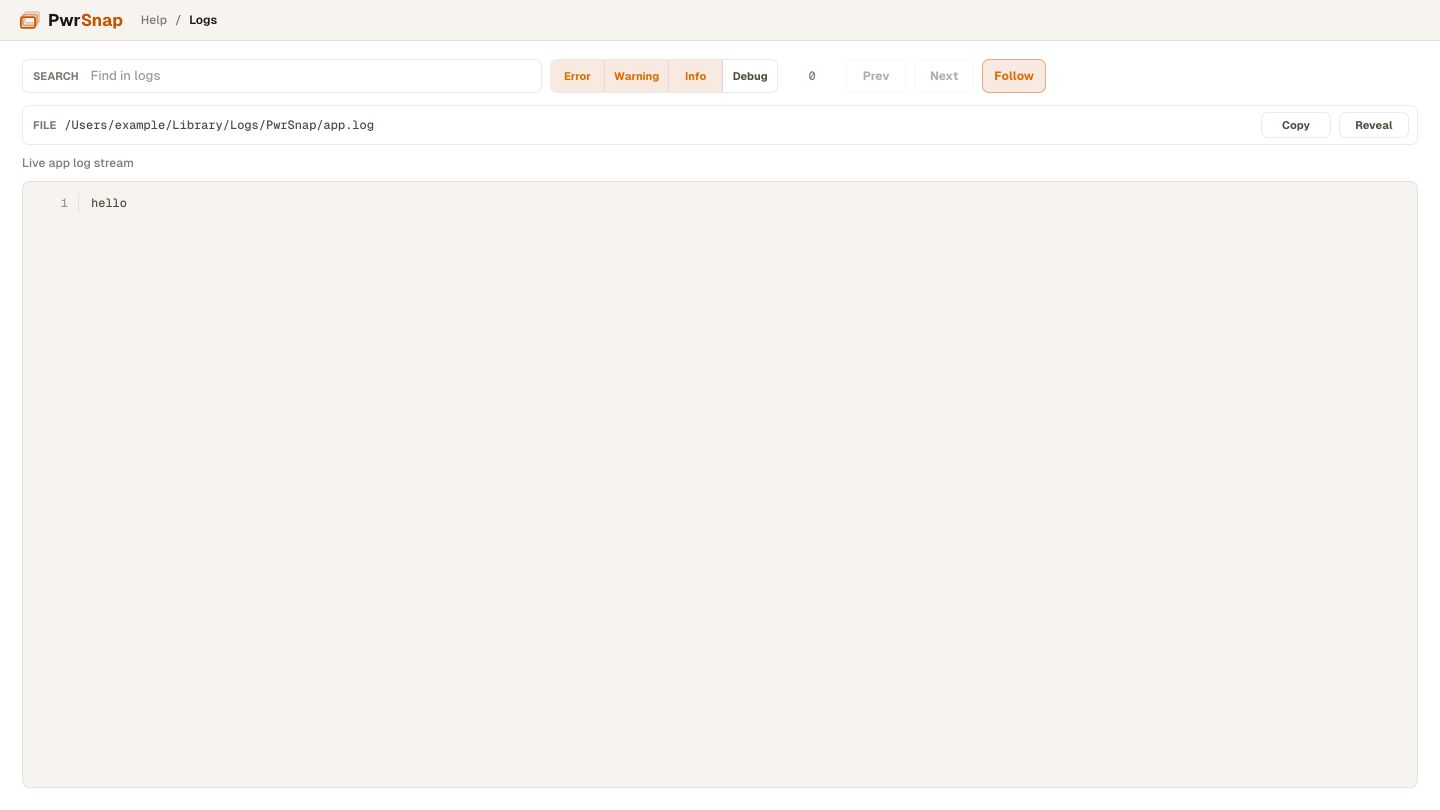
Test: LogsWindow log file copy › a failed copy says so on the button and puts the reason in the error line
Click the button with class "log-window__file-action" showing "Copy".
click(1296, 125)  # box top-left (1261, 112), bottom-right (1331, 138)
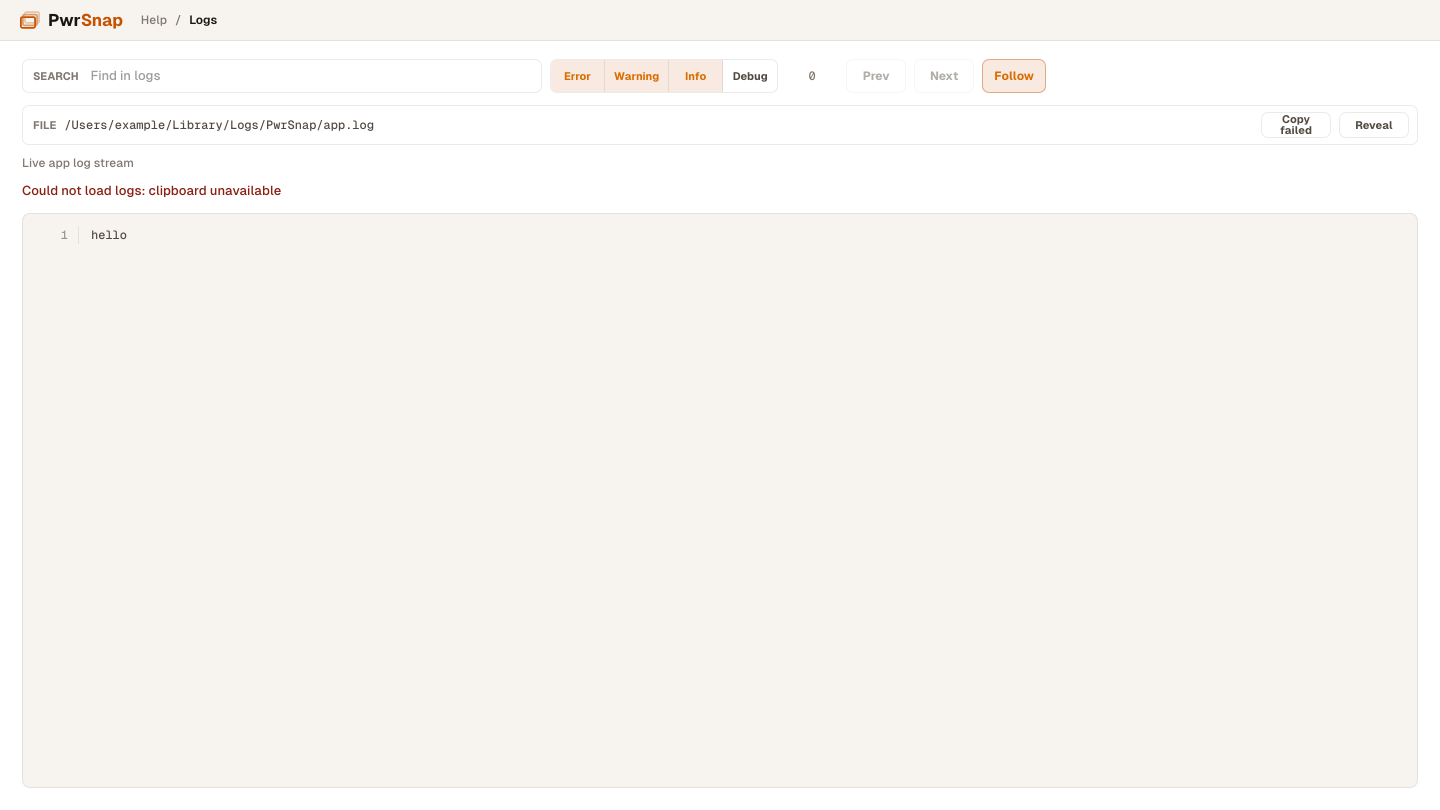
Now the button with class "log-window__file-action" reads "Copy failed", box top-left (1261, 112), bottom-right (1331, 138)
Now the message "Could not load logs: clipboard unavailable" is shown, box top-left (22, 183), bottom-right (281, 198)
